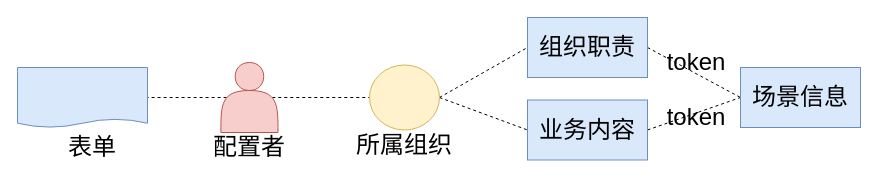
The diagram is 878 pixels wide and 180 high, and some of its shapes have lost their labels. The shapes that lost their labels are listed below. From the top down, each one's box as (x1, y1, x2, y2) in pixels, then its label:
(16, 66, 148, 128): form
(368, 64, 440, 130): org
